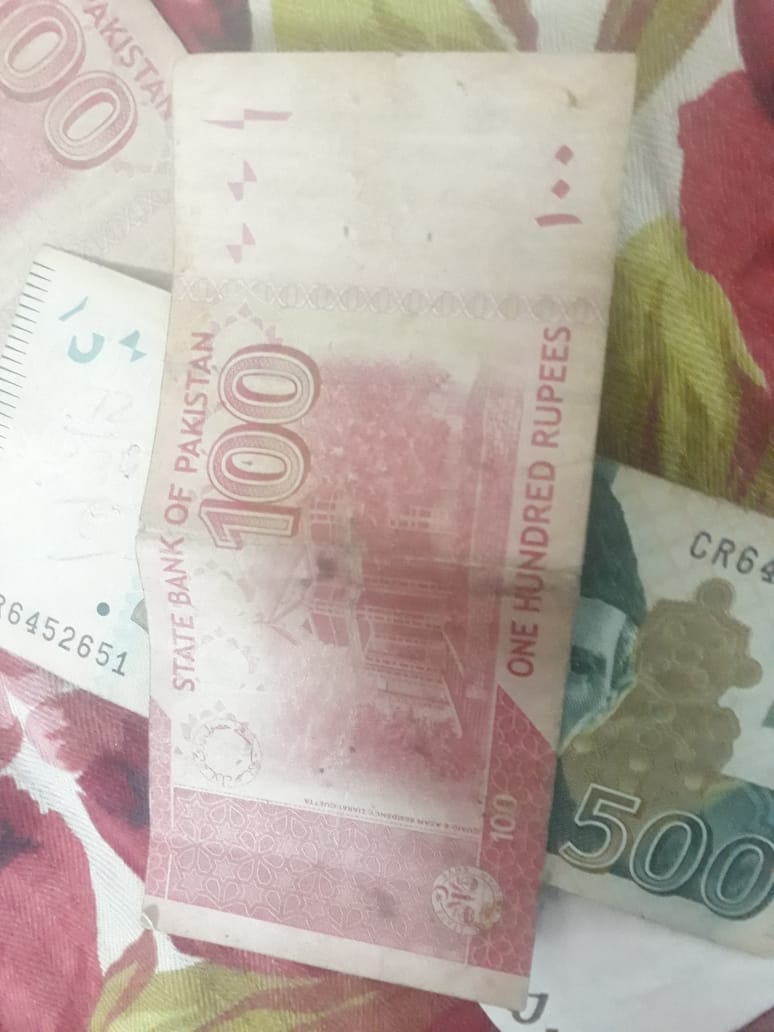100 rupee: (154, 40, 644, 1021)
